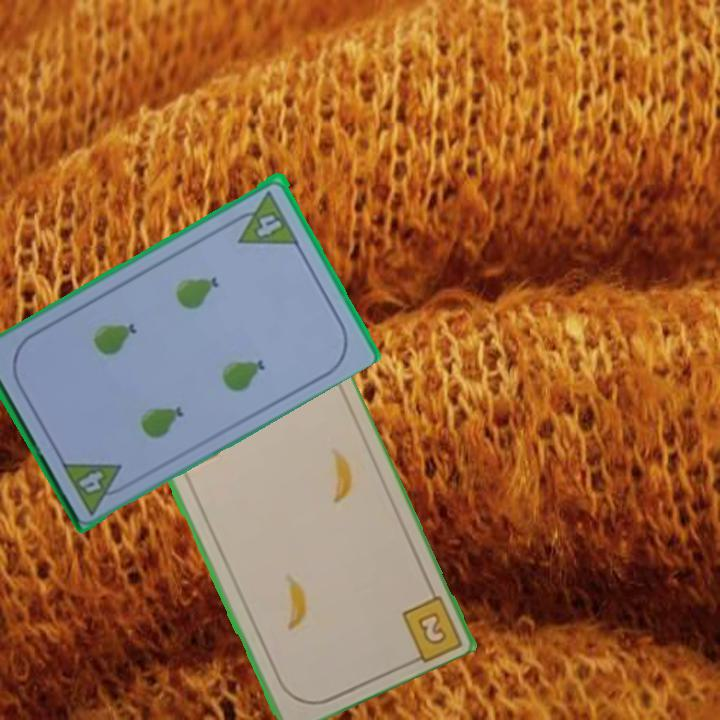2b: (413, 608, 449, 648)
4p: (226, 186, 302, 248), (59, 458, 135, 518)
